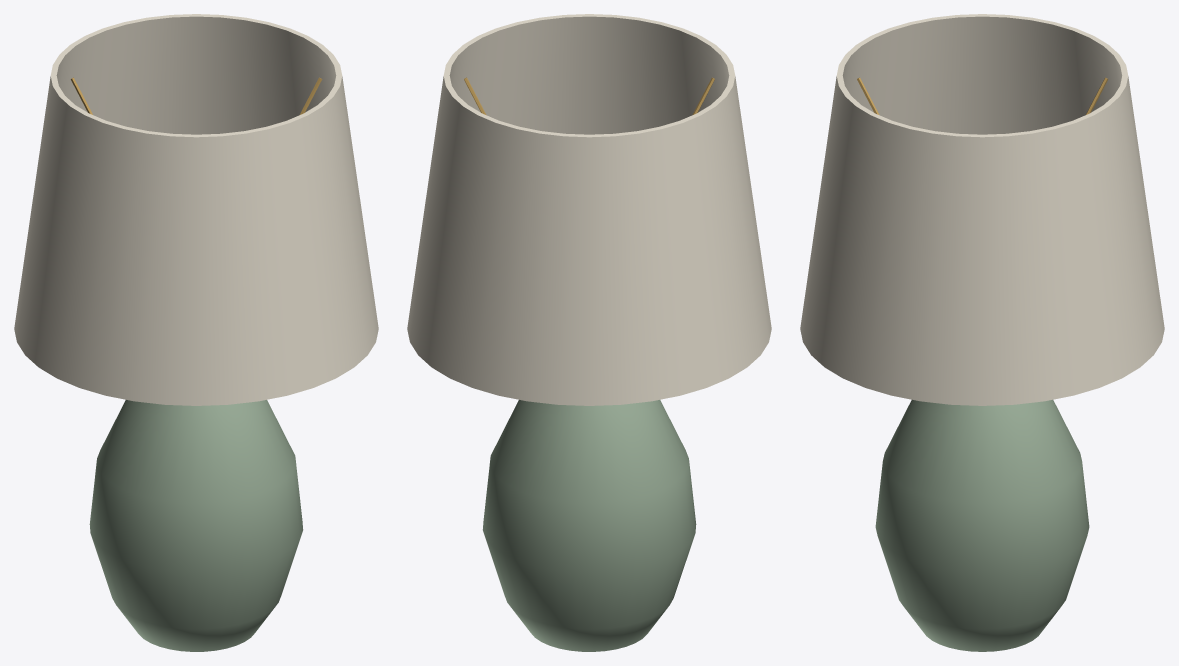
The picture shows the model from 3 angles, left to right: view 1: azimuth 30°, elevation 25°; view 2: azimuth 150°, elevation 25°; view 3: azimuth 270°, elevation 25°; orthographic projection.
Parts seen in each view (by area): view 1: ap_table_lamp; view 2: ap_table_lamp; view 3: ap_table_lamp.
Part boxes in pixels (x1,y1,x2,y2): ap_table_lamp: [14, 14, 378, 651]; ap_table_lamp: [407, 14, 771, 651]; ap_table_lamp: [800, 14, 1164, 651].
Size of the model in its own units: 0.3 by 0.5 by 0.3.
